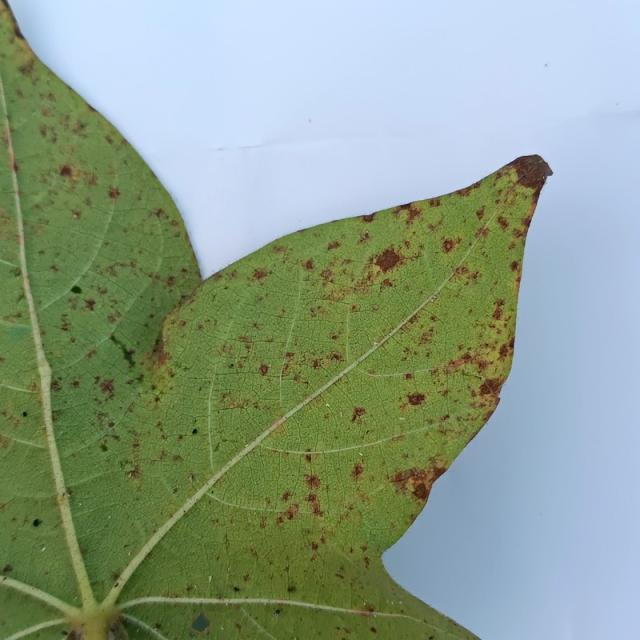Bacterial_Blight: (507, 153, 551, 183), (377, 241, 406, 272), (306, 350, 344, 370), (478, 375, 504, 396), (390, 467, 420, 484), (190, 611, 212, 633), (218, 392, 244, 409), (410, 480, 428, 500), (17, 58, 35, 77), (404, 206, 422, 224), (98, 378, 115, 397), (350, 406, 366, 423), (282, 352, 297, 370), (406, 393, 425, 407), (304, 473, 320, 489), (283, 504, 298, 520), (126, 466, 141, 481), (251, 268, 268, 281), (498, 343, 511, 359), (352, 462, 364, 479), (82, 298, 97, 311), (442, 239, 455, 253), (496, 216, 509, 230), (60, 165, 73, 178), (320, 269, 333, 282), (303, 258, 315, 271), (492, 306, 503, 320), (108, 187, 120, 199), (327, 241, 341, 251), (258, 364, 269, 376), (362, 213, 375, 223), (509, 260, 519, 273), (281, 491, 292, 502), (381, 278, 393, 287), (71, 209, 81, 219), (32, 518, 41, 527), (310, 541, 318, 551), (405, 373, 413, 380), (274, 609, 281, 616), (108, 421, 115, 428)
Cotton: (0, 3, 551, 639), (0, 145, 84, 606)
